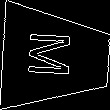M_E: (29, 33, 82, 82)
